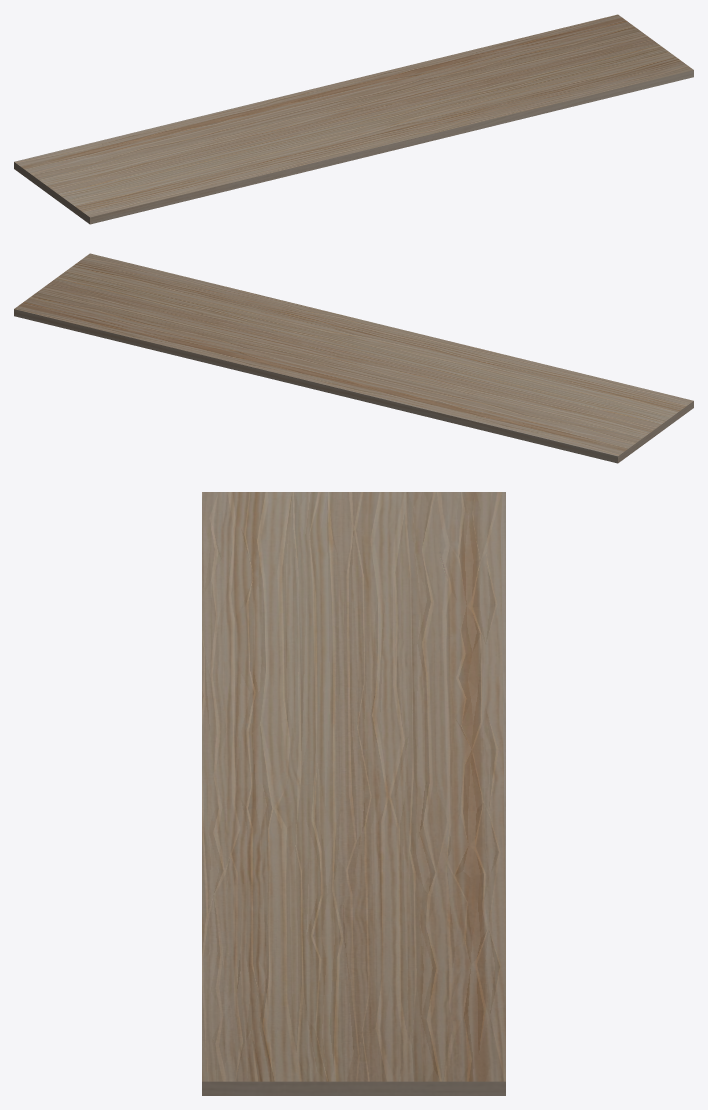
3 renders of one model, top to bottom at view 1: azimuth 30°, elevation 25°; view 2: azimuth 150°, elevation 25°; view 3: azimuth 270°, elevation 25°, orthographic. The views are drawn at different scales.
Parts seen in each view (by area): view 1: h3; view 2: h3; view 3: h3.
Part boxes in pixels (left/top/right/bottom): h3: left=14, top=14, right=693, bottom=224; h3: left=14, top=253, right=693, bottom=463; h3: left=202, top=492, right=505, bottom=1095.
Size of the model in its own units: 1422 by 15.98 by 310.
Materials: 1 (1 with a texture image).
